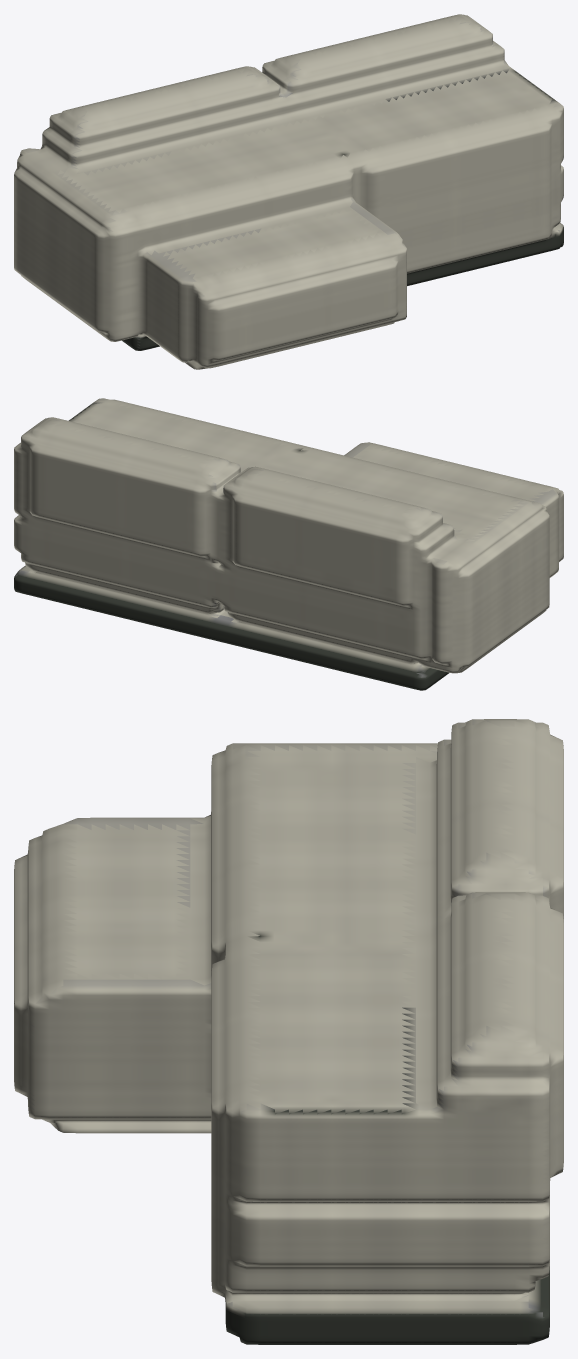
The model's file is stack3.glb.
3 renders of one model, top to bottom at view 1: azimuth 30°, elevation 25°; view 2: azimuth 150°, elevation 25°; view 3: azimuth 270°, elevation 25°, orthographic. The views are drawn at different scales.
Size of the model in its own units: 1.97 by 0.7075 by 1.2.
Materials: 1 (1 with a texture image).
